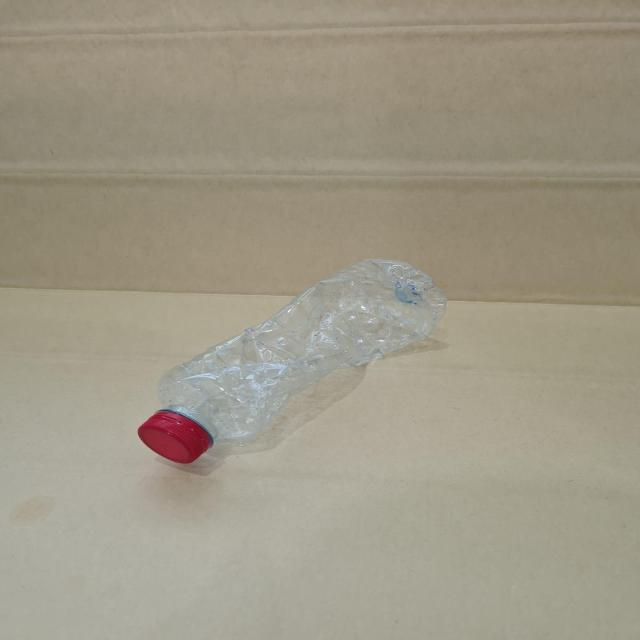bottle: (128, 240, 459, 465)
